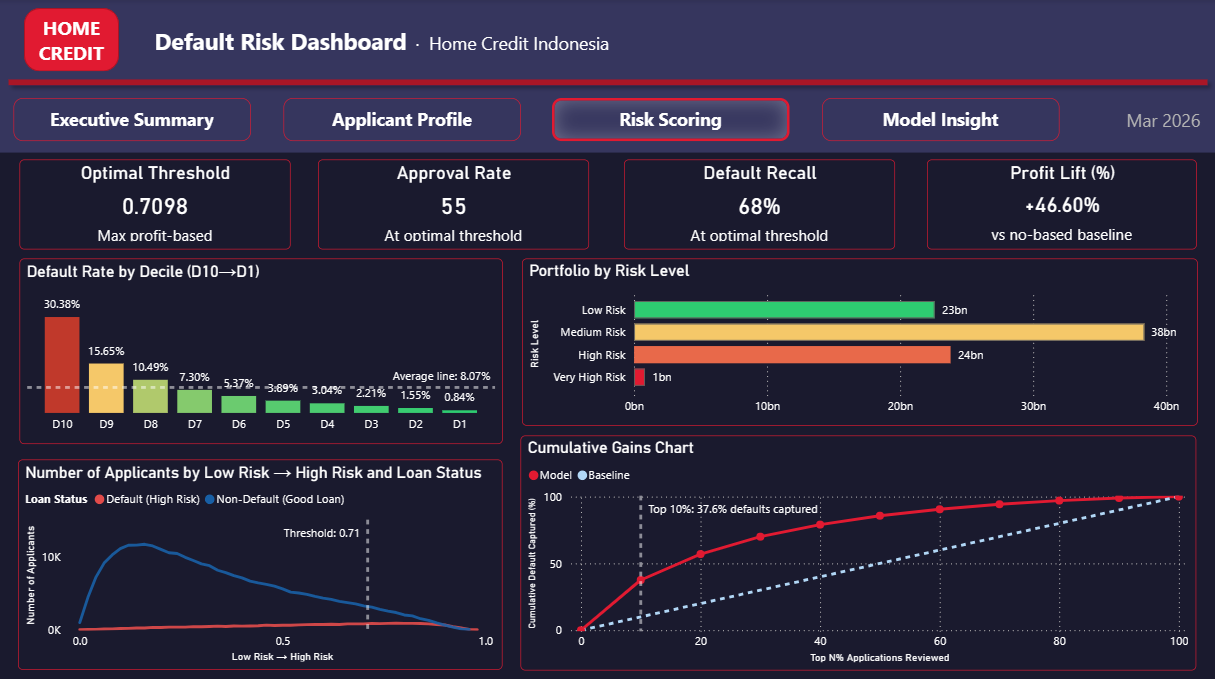

What the dashboard file says about the page in this screenshot:
{"tool":"powerbi","page":{"name":"Risk Scoring","canvas":[1280,720],"ordinal":2},"visuals":[{"type":"shape","box":[0,0,1280,161.7],"z":0},{"type":"shape","box":[0,26.7,1280,121.7],"z":1000},{"type":"actionButton","title":"Executive Summary","box":[298.2,103.9,250,45],"z":2000},{"type":"actionButton","title":"Executive Summary","box":[14.9,103.9,250,45],"z":3000},{"type":"actionButton","title":"Executive Summary","box":[581.5,103.9,250,45],"z":4000},{"type":"actionButton","title":"Executive Summary","box":[864.9,103.9,250,45],"z":5000},{"type":"shape","box":[25,10,100,66.7],"z":6000},{"type":"textbox","box":[145,21.7,513.3,43.3],"z":7000},{"type":"textbox","box":[1165,108.3,103.3,35],"z":8000},{"type":"card","title":"Approval Rate","fields":{"Values":["Sum(pbi_kpi_summary.Value)"]},"box":[335,169,285.4,94.6],"z":9000},{"type":"card","title":"Optimal Threshold","fields":{"Values":["Sum(pbi_kpi_summary.Value)"]},"box":[20.2,169,285.4,94.6],"z":10000},{"type":"card","title":"Default Recall","fields":{"Values":["Sum(pbi_model_comparison.Recall)"]},"box":[657.6,169,285.4,94.6],"z":11000},{"type":"card","title":"Profit Lift (%)","fields":{"Values":["select","pbi_kpi_summary.Profit Lift Label"]},"box":[975.5,169,283.8,94.6],"z":12000},{"type":"lineChart","fields":{"Category":["pbi_risk_scoring.SCORE_XGB (bins)"],"Series":["pbi_risk_scoring.Loan_Status"],"Y":["CountNonNull(pbi_applicant_profile.SK_ID_CURR)"]},"box":[18.9,484.4,510,221.1],"z":13000},{"type":"clusteredColumnChart","title":"Default Rate by Decile (D10→D1)","fields":{"Category":["pbi_decile_summary.Decile"],"Y":["Sum(pbi_decile_summary.Default_Rate)"]},"box":[20,273.3,508.9,195.6],"z":14000},{"type":"barChart","title":"Portfolio by Risk Level","fields":{"Category":["Risk_sort.Risk Level"],"Y":["Sum(pbi_applicant_profile.SK_ID_CURR)"]},"box":[548.8,273.8,711.2,176.2],"z":15000},{"type":"lineChart","title":"Cumulative Gains Chart","fields":{"Category":["pbi_decile_summary.Decile_Rank_Pct"],"Y":["Sum(pbi_decile_summary.Cum_Default_Pct)","Sum(pbi_decile_summary.Cum_Apps_Pct)"]},"box":[548,459,711,247],"z":16000}]}

Visuals, with their boxes in screenshot pixels (x1, y1, x2, y2), scaled from the page's 1280x720 canvas onto the 1215x679 screenshot:
shape: BBox(0, 0, 1214, 152)
shape: BBox(0, 25, 1214, 140)
"Executive Summary" actionButton: BBox(283, 98, 520, 140)
"Executive Summary" actionButton: BBox(14, 98, 251, 140)
"Executive Summary" actionButton: BBox(552, 98, 789, 140)
"Executive Summary" actionButton: BBox(821, 98, 1058, 140)
shape: BBox(24, 9, 119, 72)
textbox: BBox(138, 20, 625, 61)
textbox: BBox(1106, 102, 1204, 135)
"Approval Rate" card: BBox(318, 159, 589, 249)
"Optimal Threshold" card: BBox(19, 159, 290, 249)
"Default Recall" card: BBox(624, 159, 895, 249)
"Profit Lift (%)" card: BBox(926, 159, 1195, 249)
lineChart - pbi_risk_scoring.SCORE_XGB (bins) x pbi_risk_scoring.Loan_Status: BBox(18, 457, 502, 665)
"Default Rate by Decile (D10→D1)" clusteredColumnChart: BBox(19, 258, 502, 442)
"Portfolio by Risk Level" barChart: BBox(521, 258, 1196, 424)
"Cumulative Gains Chart" lineChart: BBox(520, 433, 1195, 666)
